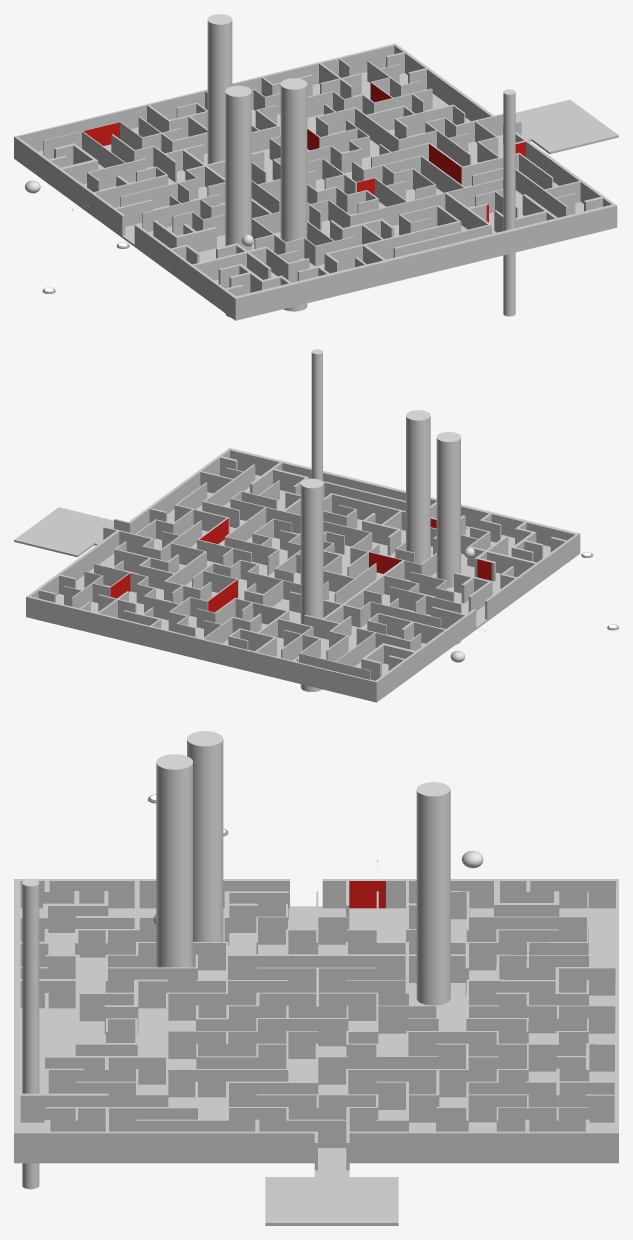
File: игра шарик49.fbx
The picture shows the model from 3 angles, top to bottom: view 1: azimuth 30°, elevation 25°; view 2: azimuth 150°, elevation 25°; view 3: azimuth 270°, elevation 25°; orthographic projection. The views are drawn at different scales.
Visible parts, largest first — view 1: Cube.003, пропасть.001, пропасть, пропасть.002, пропасть.003, Cube.005, Cube.004; view 2: Cube.003, пропасть, пропасть.001, пропасть.002, пропасть.003; view 3: Cube.003, пропасть.001, пропасть.002, пропасть, пропасть.003, Cube.014.
Boxes of the visible parts, <box> form: Cube.003: <box>14,43,618,320</box>; пропасть.001: <box>280,78,307,311</box>; пропасть: <box>225,85,251,317</box>; пропасть.002: <box>207,14,232,164</box>; пропасть.003: <box>503,89,515,316</box>; Cube.005: <box>429,144,460,183</box>; Cube.004: <box>83,122,119,145</box>; Cube.003: <box>14,448,580,702</box>; пропасть: <box>436,432,460,644</box>; пропасть.001: <box>406,410,430,563</box>; пропасть.002: <box>300,478,323,691</box>; пропасть.003: <box>311,349,322,481</box>; Cube.003: <box>14,879,618,1225</box>; пропасть.001: <box>156,754,192,967</box>; пропасть.002: <box>416,782,450,1005</box>; пропасть: <box>187,731,223,941</box>; пропасть.003: <box>22,879,39,1189</box>; Cube.014: <box>349,881,385,908</box>.
Bounding box in the file's own units: 11240 × 4203 × 7285.
